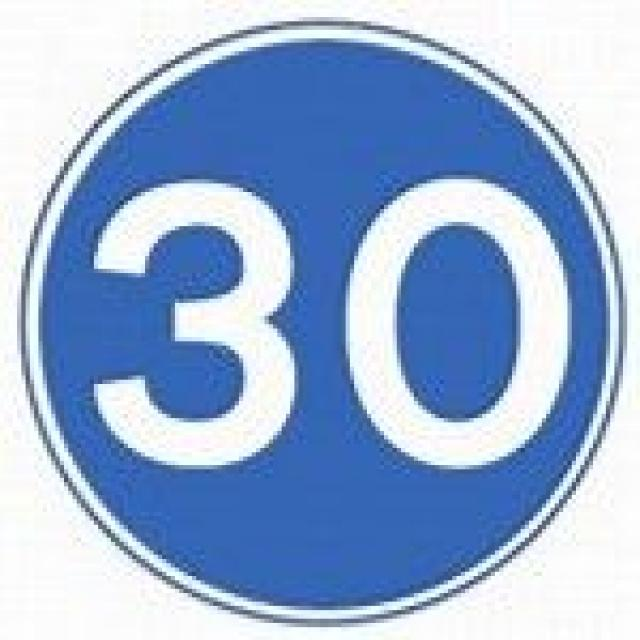COMPULSARY_MINIMUM_SPEED: (17, 13, 627, 627)
